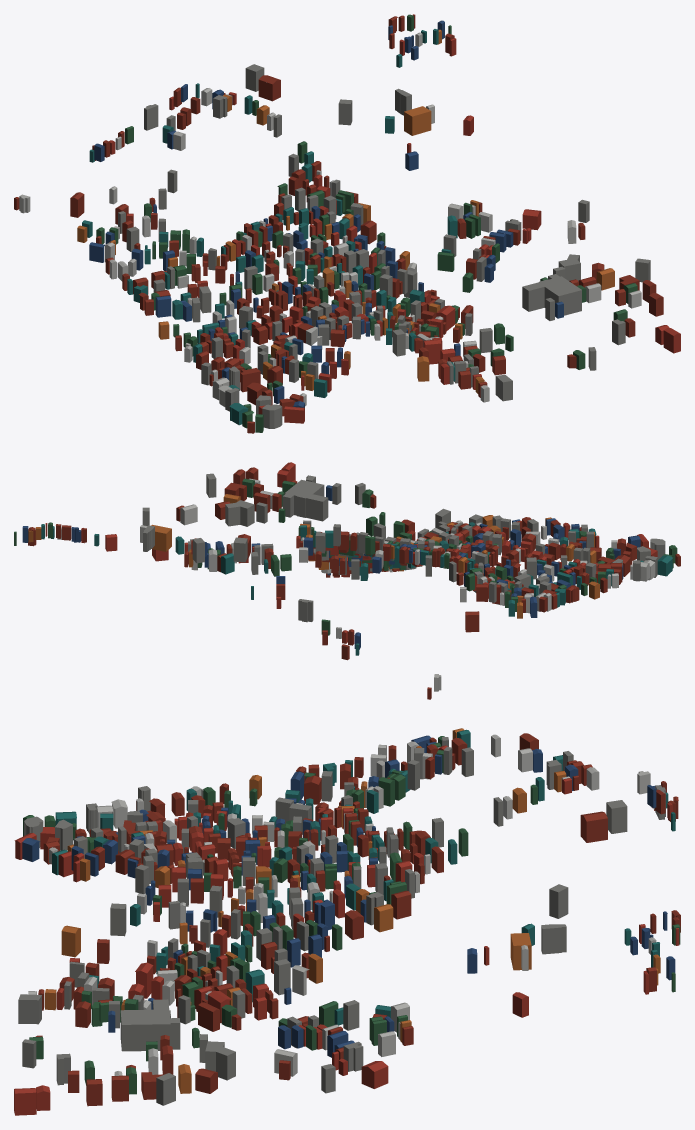
The model's file is near-16-54718-29740.6470eeaf.glb.
3 views of the same model, one above another, from view 1: azimuth 30°, elevation 25°; view 2: azimuth 150°, elevation 25°; view 3: azimuth 270°, elevation 25° (orthographic). The views are drawn at different scales.
Bounding box in the file's own units: 591 × 205 × 587.
